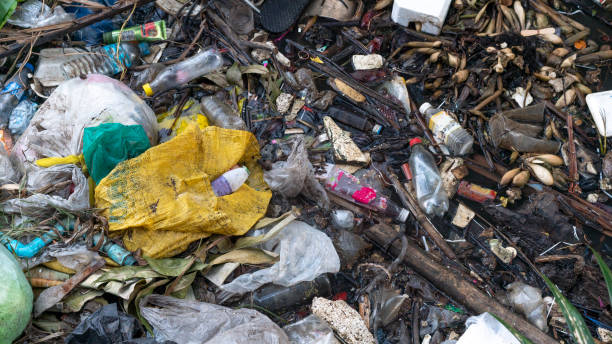General waste: (323, 115, 366, 161), (100, 19, 170, 45)
plastic: (143, 49, 224, 99), (418, 101, 480, 155), (411, 136, 447, 215)
